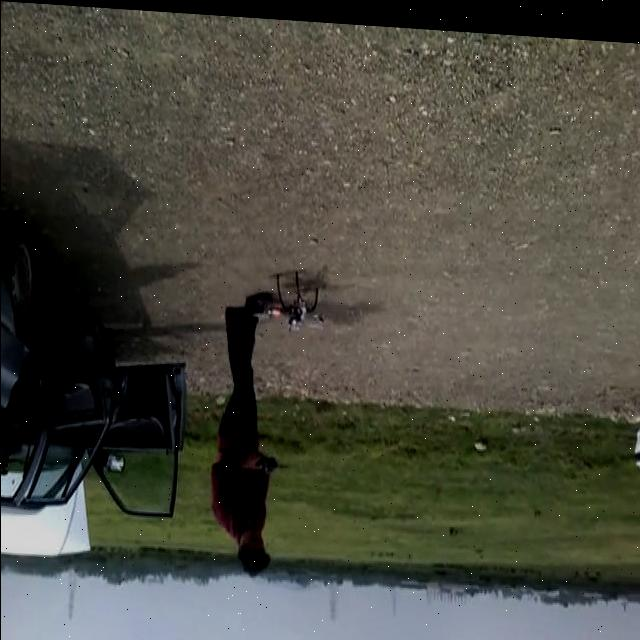drone: (250, 265, 326, 331)
